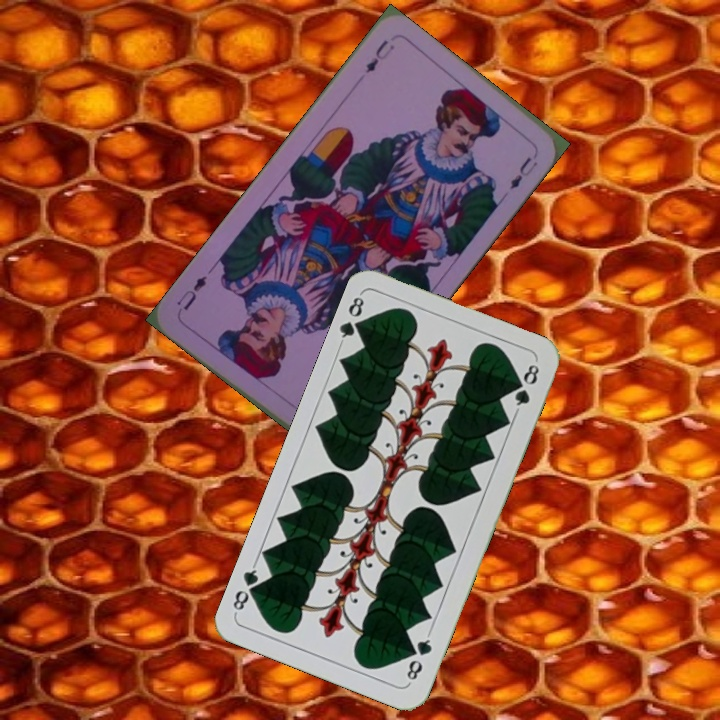EU: (361, 36, 398, 77)
G8: (335, 290, 370, 347), (402, 629, 435, 686)
